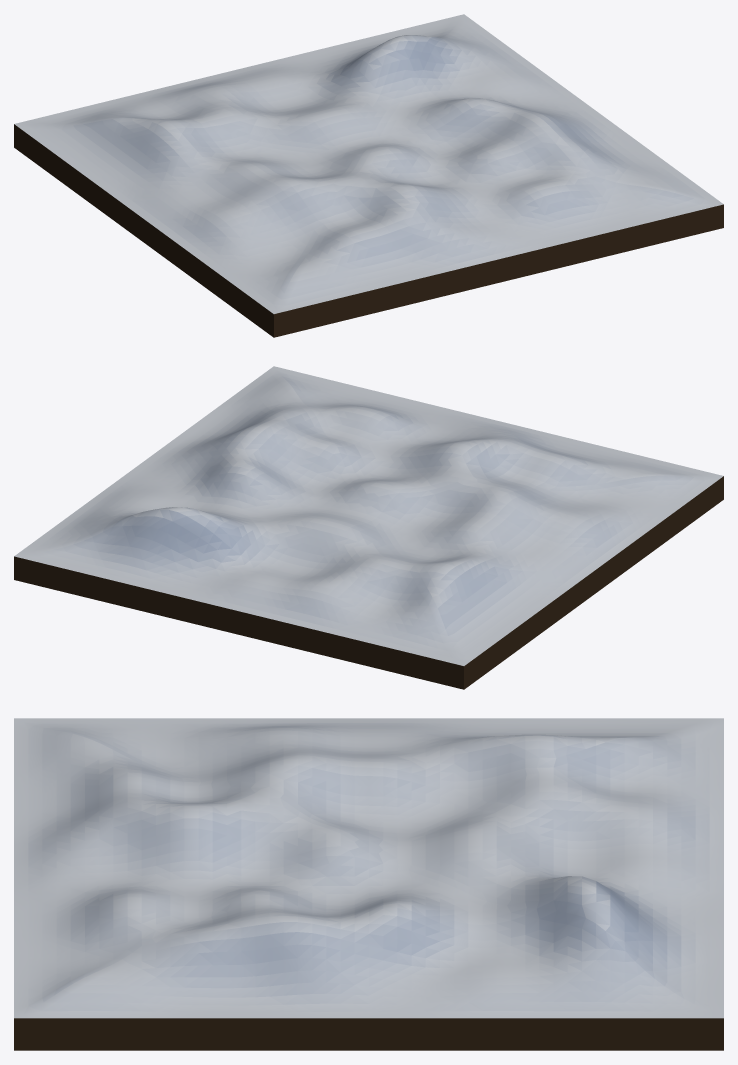
Rendered from terrain_snow.glb.
The picture shows the model from 3 angles, top to bottom: view 1: azimuth 30°, elevation 25°; view 2: azimuth 150°, elevation 25°; view 3: azimuth 270°, elevation 25°; orthographic projection. The views are drawn at different scales.
Visible parts, largest first — view 1: ground; view 2: ground; view 3: ground.
Part boxes in pixels (left/top/right/bottom): ground: left=14, top=14, right=723, bottom=337; ground: left=14, top=366, right=723, bottom=689; ground: left=14, top=718, right=723, bottom=1050.
Bounding box in the file's own units: 0.8 × 0.1066 × 0.8.
